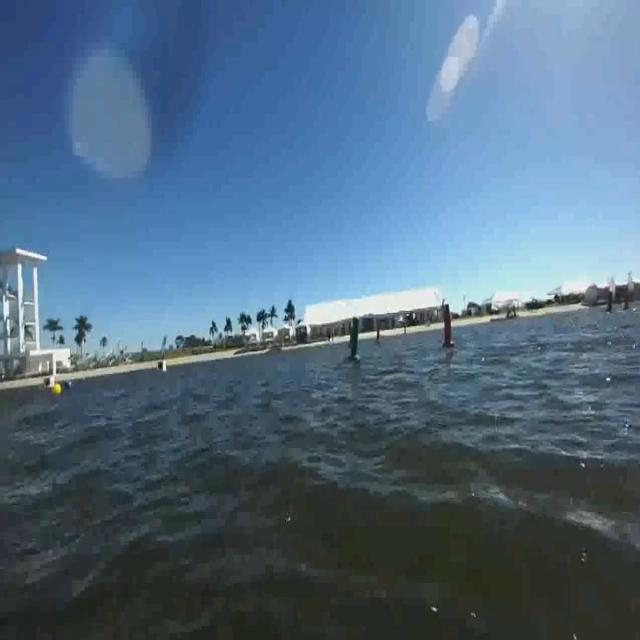green-column-buoy: (346, 309, 362, 367)
red-column-buoy: (436, 298, 456, 360)
yellow-buoy: (52, 380, 62, 395)
